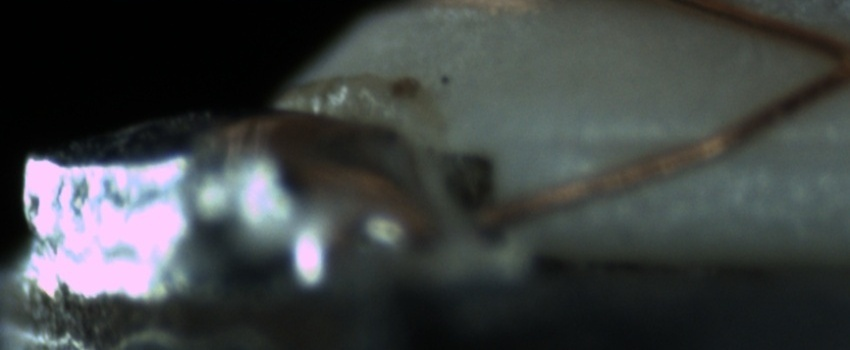DL: (536, 111, 848, 178)
